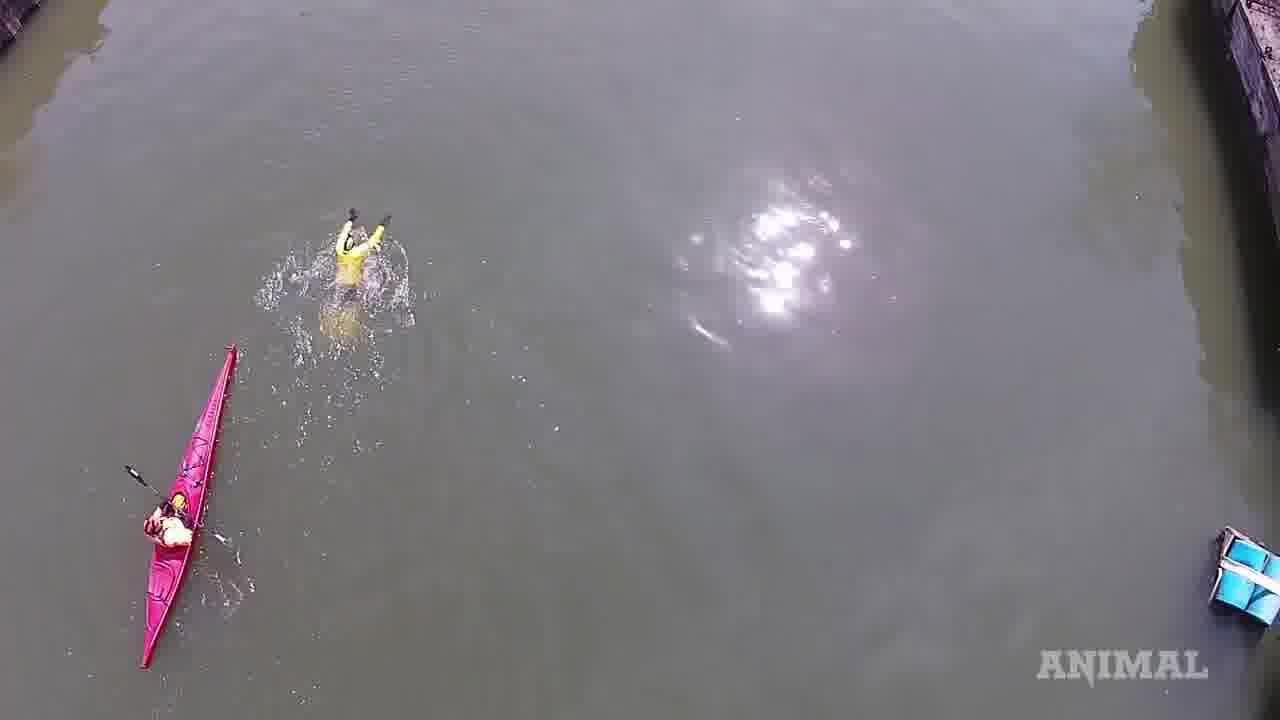swimmer: (312, 192, 412, 332)
